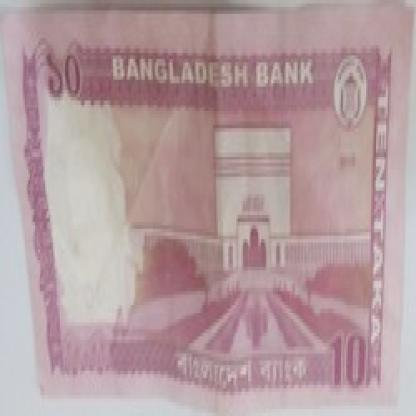Ten Taka: (40, 42, 90, 121), (328, 322, 368, 399)
